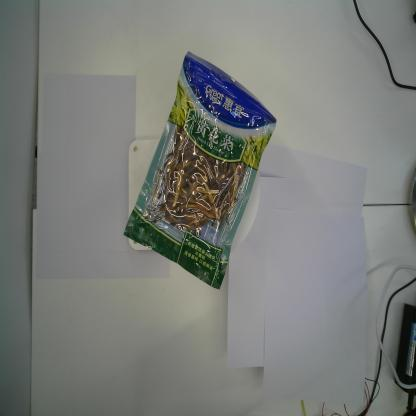Dried Food: (122, 49, 276, 290)
